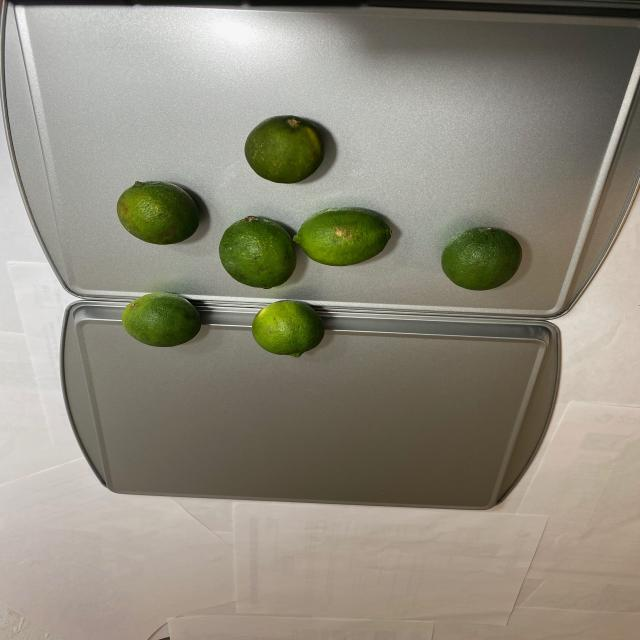lemon: (118, 110, 528, 359)
